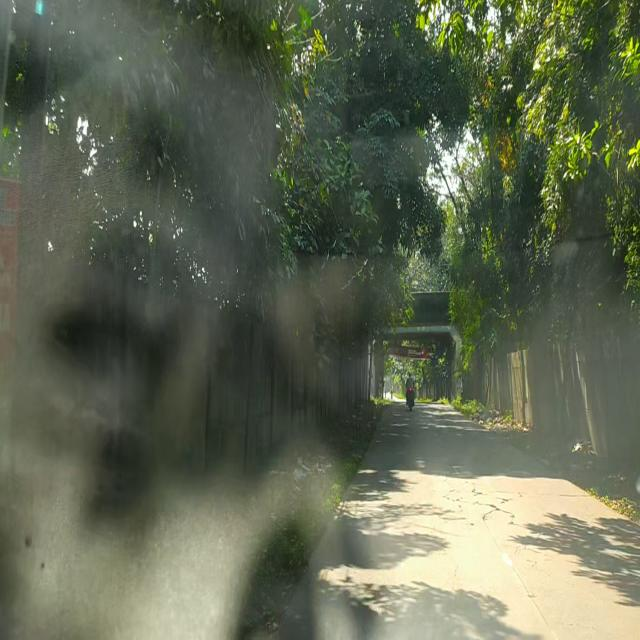Drain Hole: (446, 475, 526, 529)
